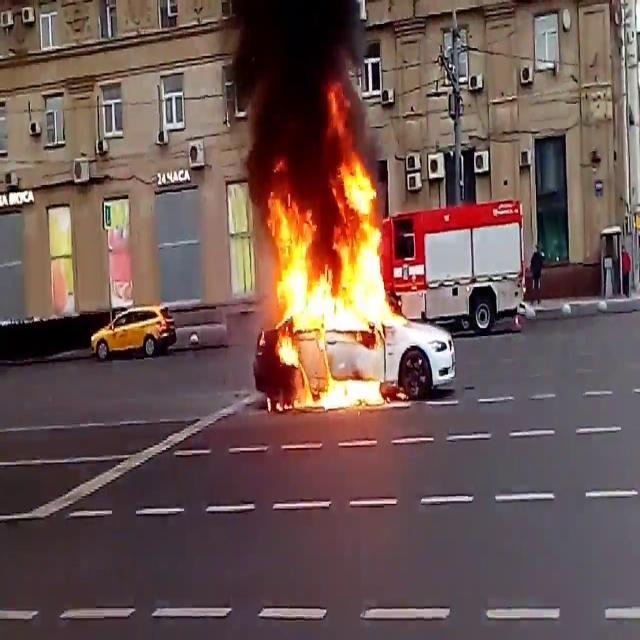Fire: (260, 133, 402, 410)
Smoke: (221, 1, 373, 202)
